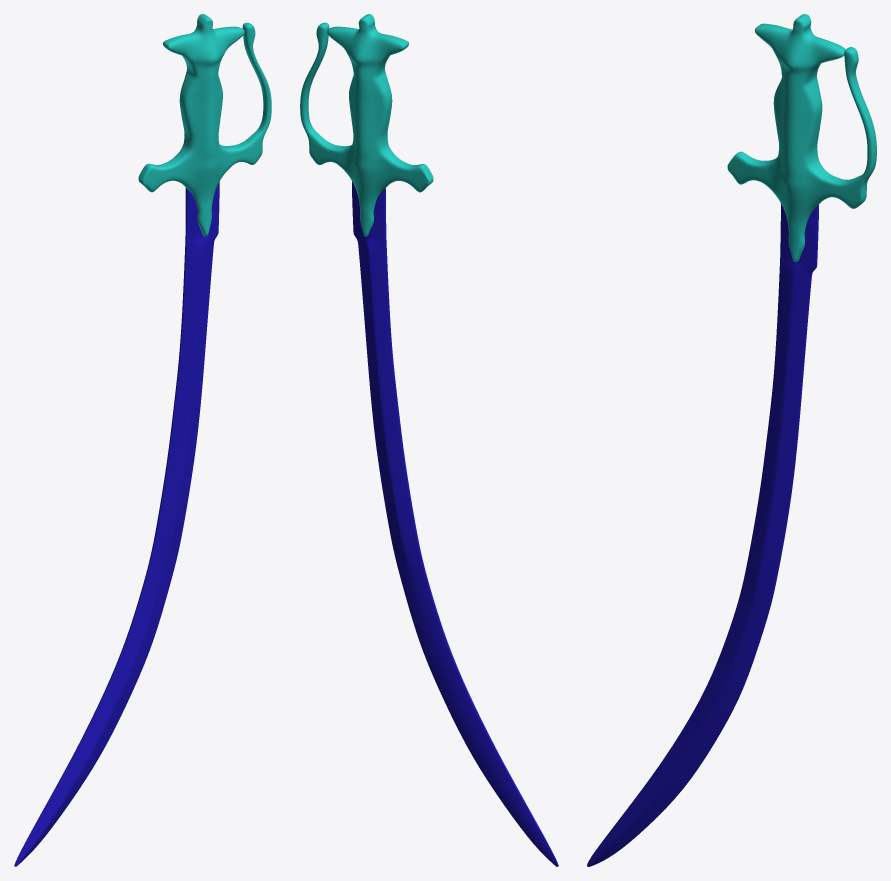
File: Tulwar.fbx
3 renders of one model, left to right at view 1: azimuth 30°, elevation 25°; view 2: azimuth 150°, elevation 25°; view 3: azimuth 330°, elevation 25°, orthographic. The views are drawn at different scales.
Visible parts, largest first — view 1: Plane, Plane.001; view 2: Plane, Plane.001; view 3: Plane, Plane.001.
Part boxes in pixels (bbox=[...]): Plane: bbox=[14, 182, 219, 866]; Plane.001: bbox=[138, 14, 271, 236]; Plane: bbox=[352, 181, 558, 866]; Plane.001: bbox=[300, 14, 433, 236]; Plane: bbox=[587, 203, 818, 866]; Plane.001: bbox=[727, 14, 876, 262].
Bounding box in the file's own units: 145 × 435 × 18.97.
